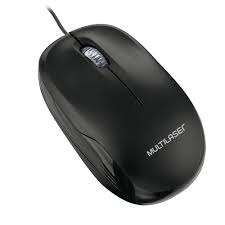mouse: (39, 20, 213, 205)
